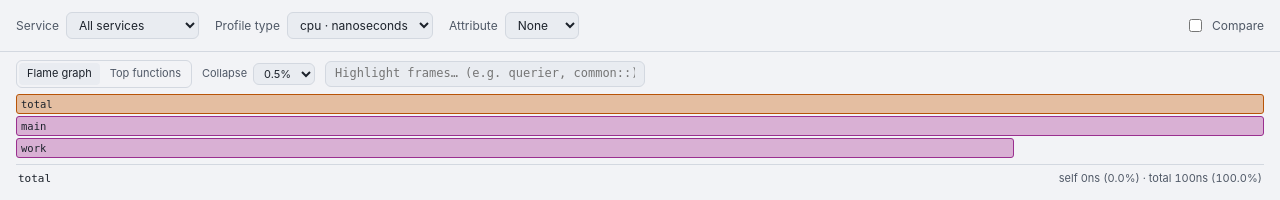
Scenario: ProfilesView › highlights matching frames and reports the matched share
expect the button "work" is shown: met, box [16,138,1014,158]
In the field labelled "Highlight frames": (485, 74) [325,61,645,87], type "work"
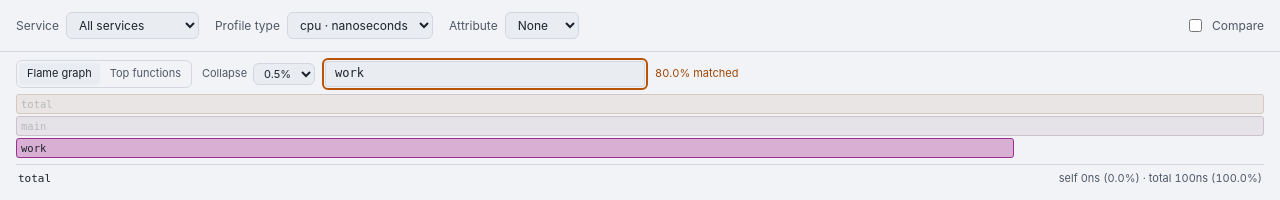
expect the text "80.0% matched" is shown: met, box [655,66,738,82]
